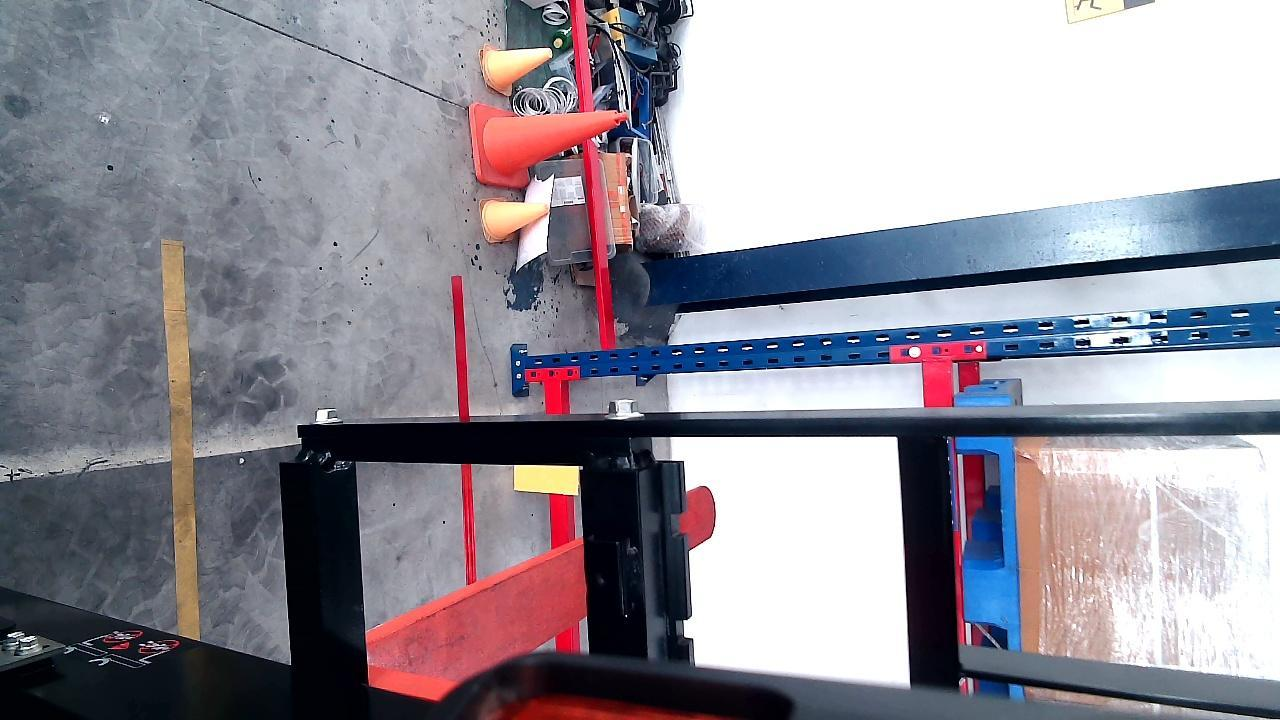red_line: (452, 278, 476, 589)
yellow_line: (168, 242, 199, 640)
